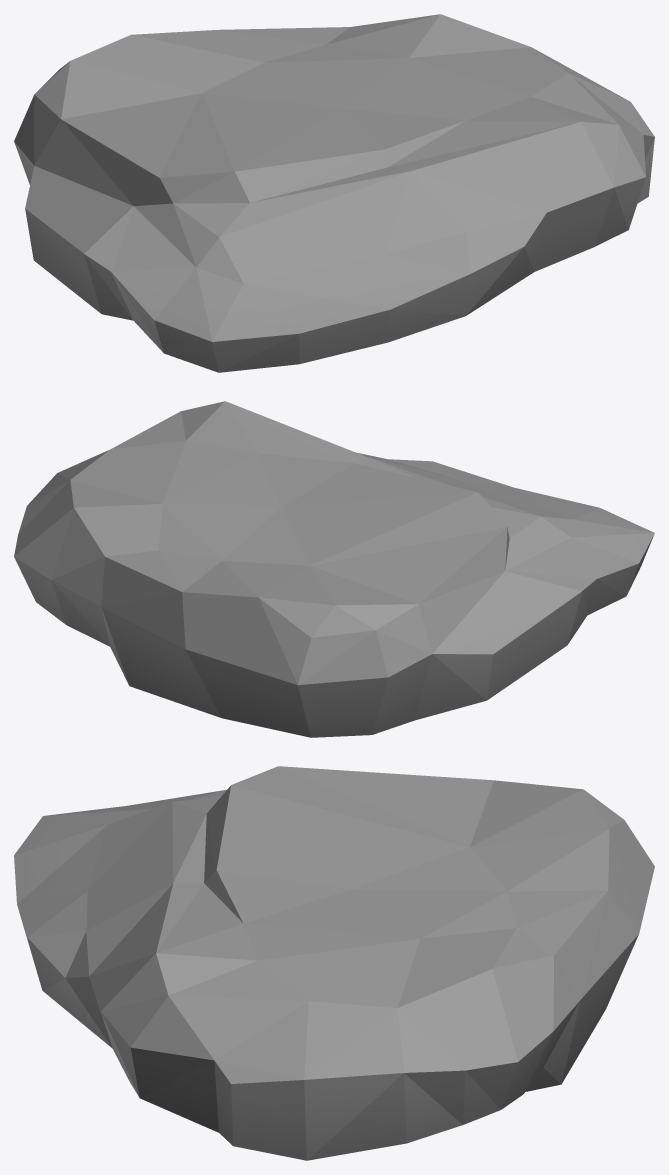
File: Jungle_PlatformRock_Med_A.fbx
3 renders of one model, top to bottom at view 1: azimuth 30°, elevation 25°; view 2: azimuth 150°, elevation 25°; view 3: azimuth 270°, elevation 25°, orthographic. The views are drawn at different scales.
Visible parts, largest first — view 1: Jungle_PlatformRock_Med_A; view 2: Jungle_PlatformRock_Med_A; view 3: Jungle_PlatformRock_Med_A.
Boxes of the visible parts, x1,y1,x2,y2 form: Jungle_PlatformRock_Med_A: (14, 14, 654, 372); Jungle_PlatformRock_Med_A: (14, 401, 654, 737); Jungle_PlatformRock_Med_A: (14, 766, 654, 1160).
Bounding box in the file's own units: 12.08 × 3.49 × 10.89.
